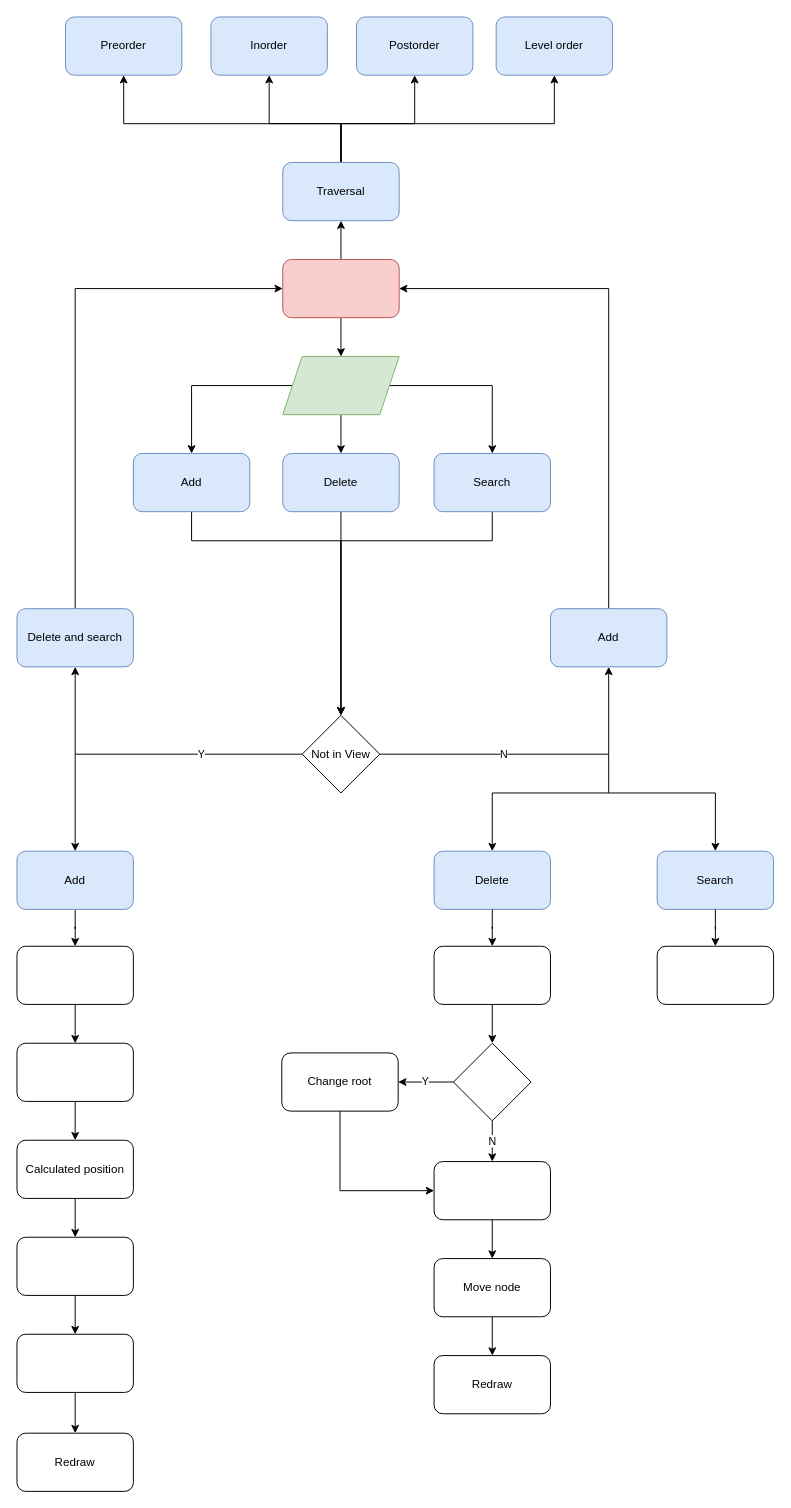
This 791x1508 diagram has some shape labels left out. The centre of each missing label's shape, as x and y in pixels:
Add to scene: point 74,1265
BST Graphics View: point 340,288
Connect node: point 74,1362
Create node: point 74,974
Delete node: point 491,1190
DFS: point 715,974
Is root: point 492,1081
Node value: point 340,385
Search node: point 491,974
Set node: point 74,1071
